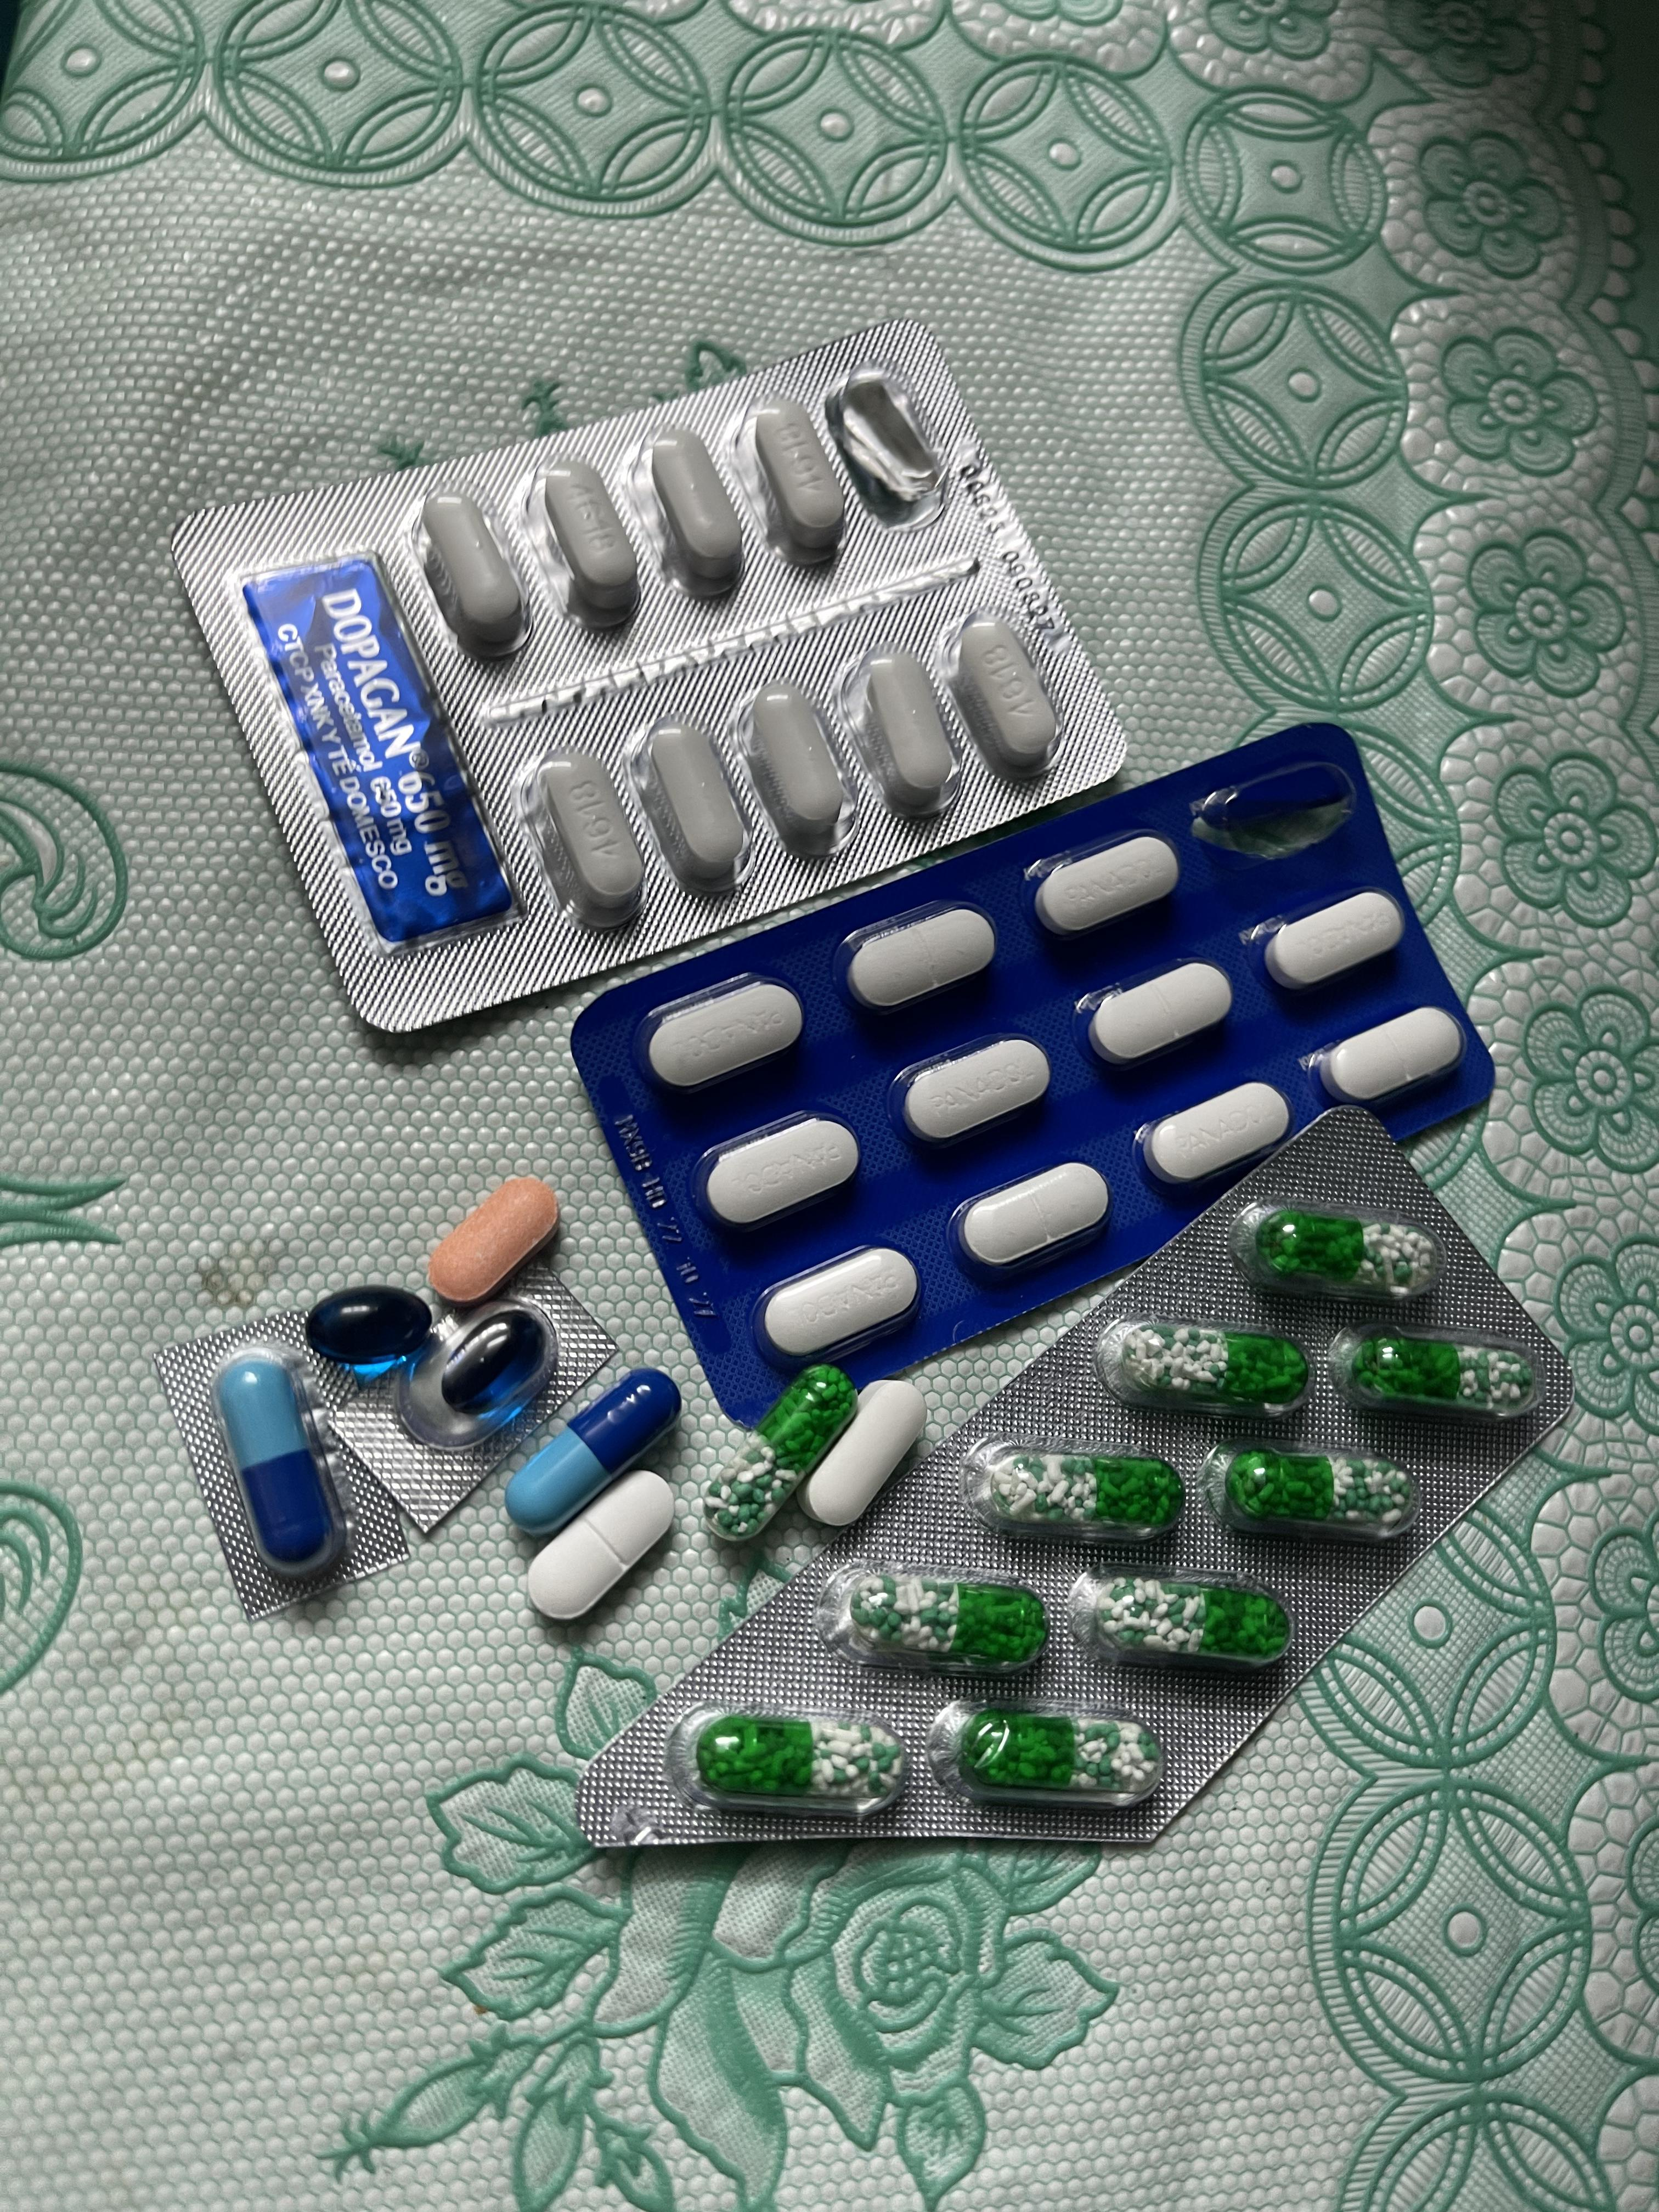Lincomyxin_500mg: (303, 1284, 438, 1381), (440, 1312, 541, 1412)
Loratadine_10mg: (430, 1178, 561, 1299)
Paracetamol_350mg: (524, 1470, 678, 1623), (643, 979, 809, 1095), (837, 901, 1000, 1017), (757, 1249, 920, 1364), (897, 1036, 1049, 1144), (1082, 960, 1232, 1069), (1313, 1007, 1467, 1109), (1028, 833, 1175, 939), (961, 1163, 1109, 1268), (1140, 1082, 1290, 1184), (1272, 892, 1408, 986), (732, 1138, 840, 1197)
Paracetamol_500mg: (737, 676, 867, 856), (522, 752, 646, 926), (629, 714, 751, 891), (529, 459, 643, 627), (799, 1376, 927, 1525), (417, 488, 530, 653), (744, 396, 851, 567), (648, 425, 751, 596), (948, 617, 1056, 774), (857, 644, 958, 810)
Paracetamol_650mg: (698, 1363, 864, 1538), (695, 1713, 905, 1797), (853, 1577, 1048, 1665), (960, 1709, 1150, 1790), (1260, 1214, 1436, 1294), (1229, 1453, 1408, 1530), (1352, 1338, 1532, 1412), (981, 1456, 1169, 1527), (1104, 1583, 1278, 1660), (1133, 1325, 1299, 1403)
pill: (209, 1340, 346, 1581), (504, 1368, 682, 1536)
